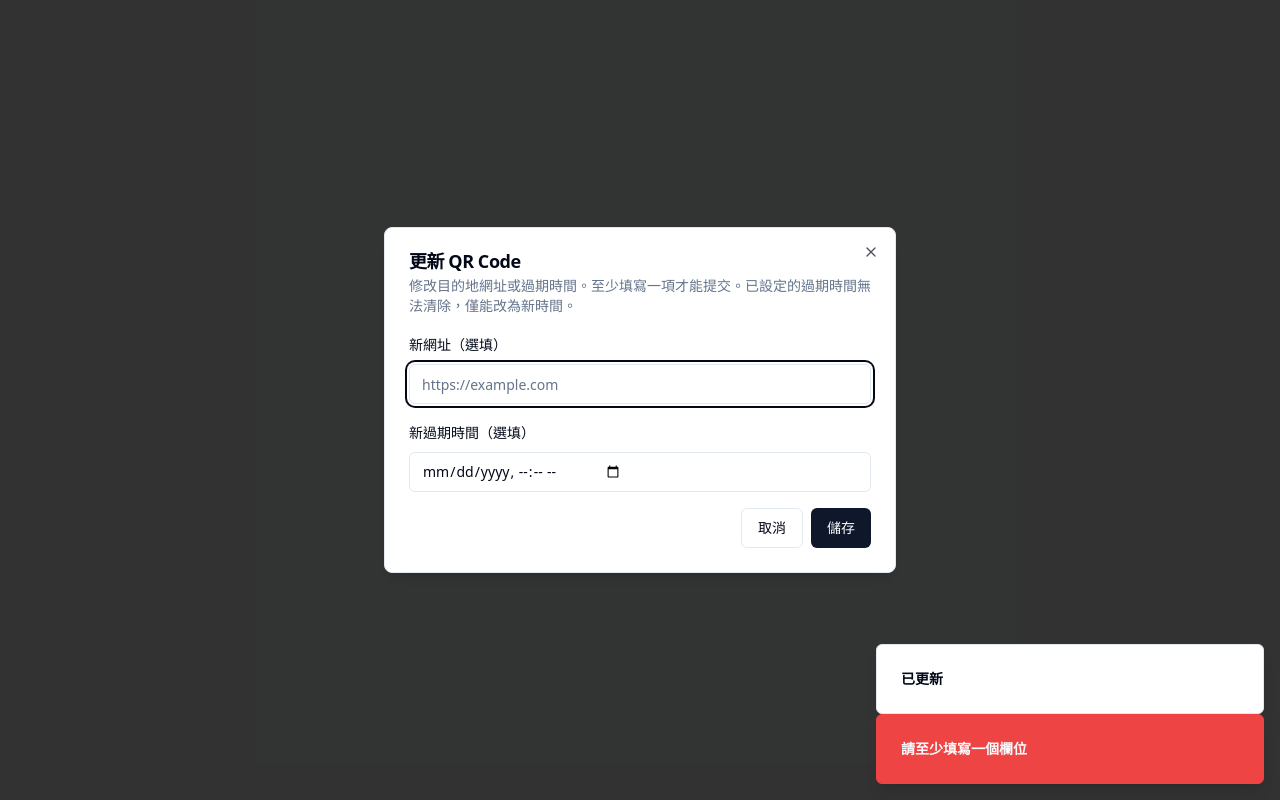
Test: UpdateUrlDialog › shows 422 error
In the field labelled "新網址（選填）": [640, 384] box top-left (409, 364), bottom-right (871, 404), type "https://invalid.com"
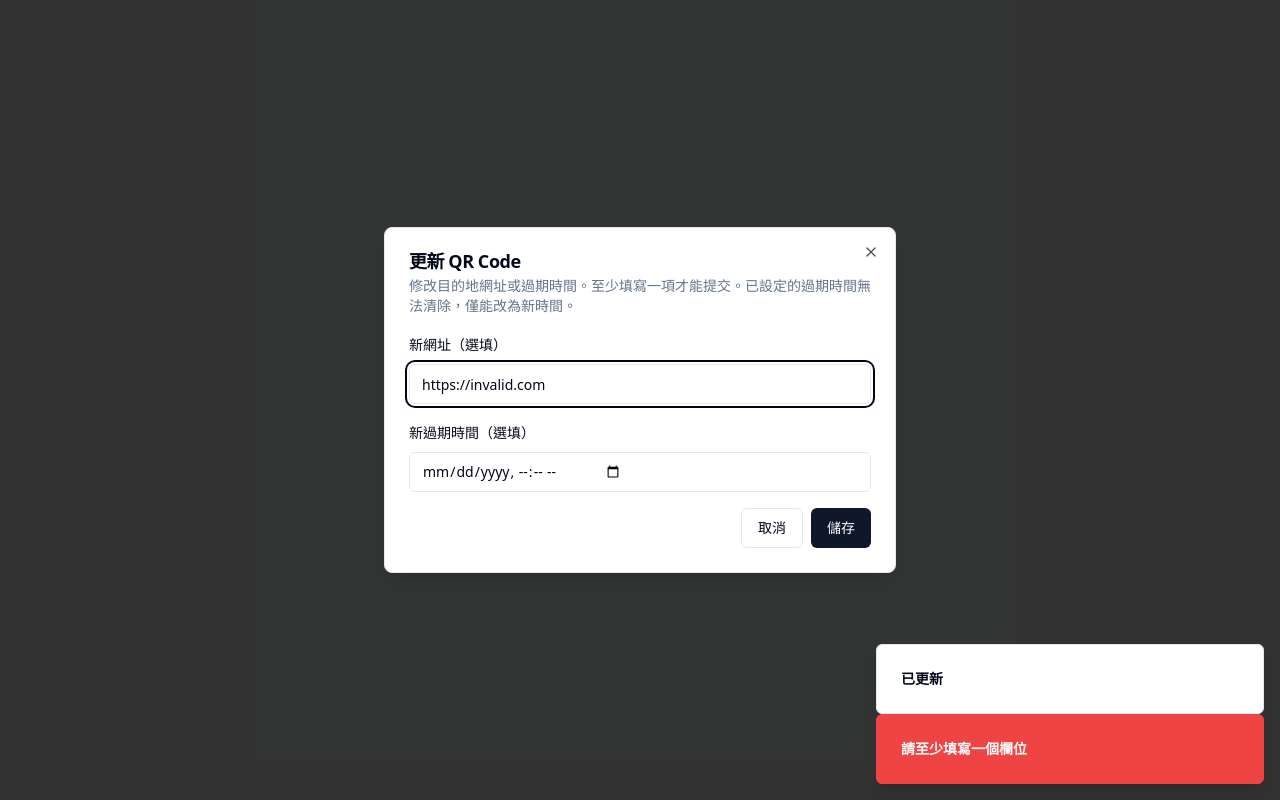
Click the button "儲存": [841, 528] box top-left (811, 508), bottom-right (871, 548)
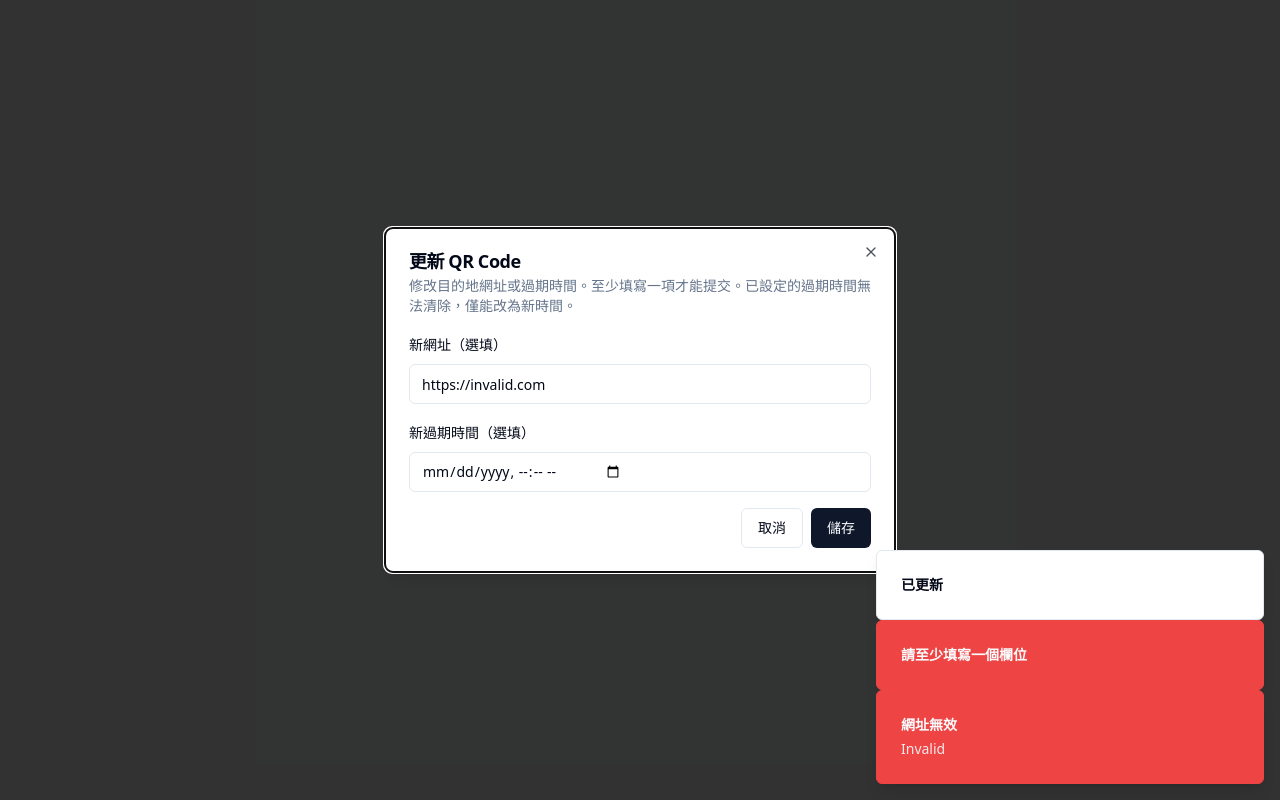
Check: the text "網址無效" is shown, box top-left (901, 715), bottom-right (957, 735)
